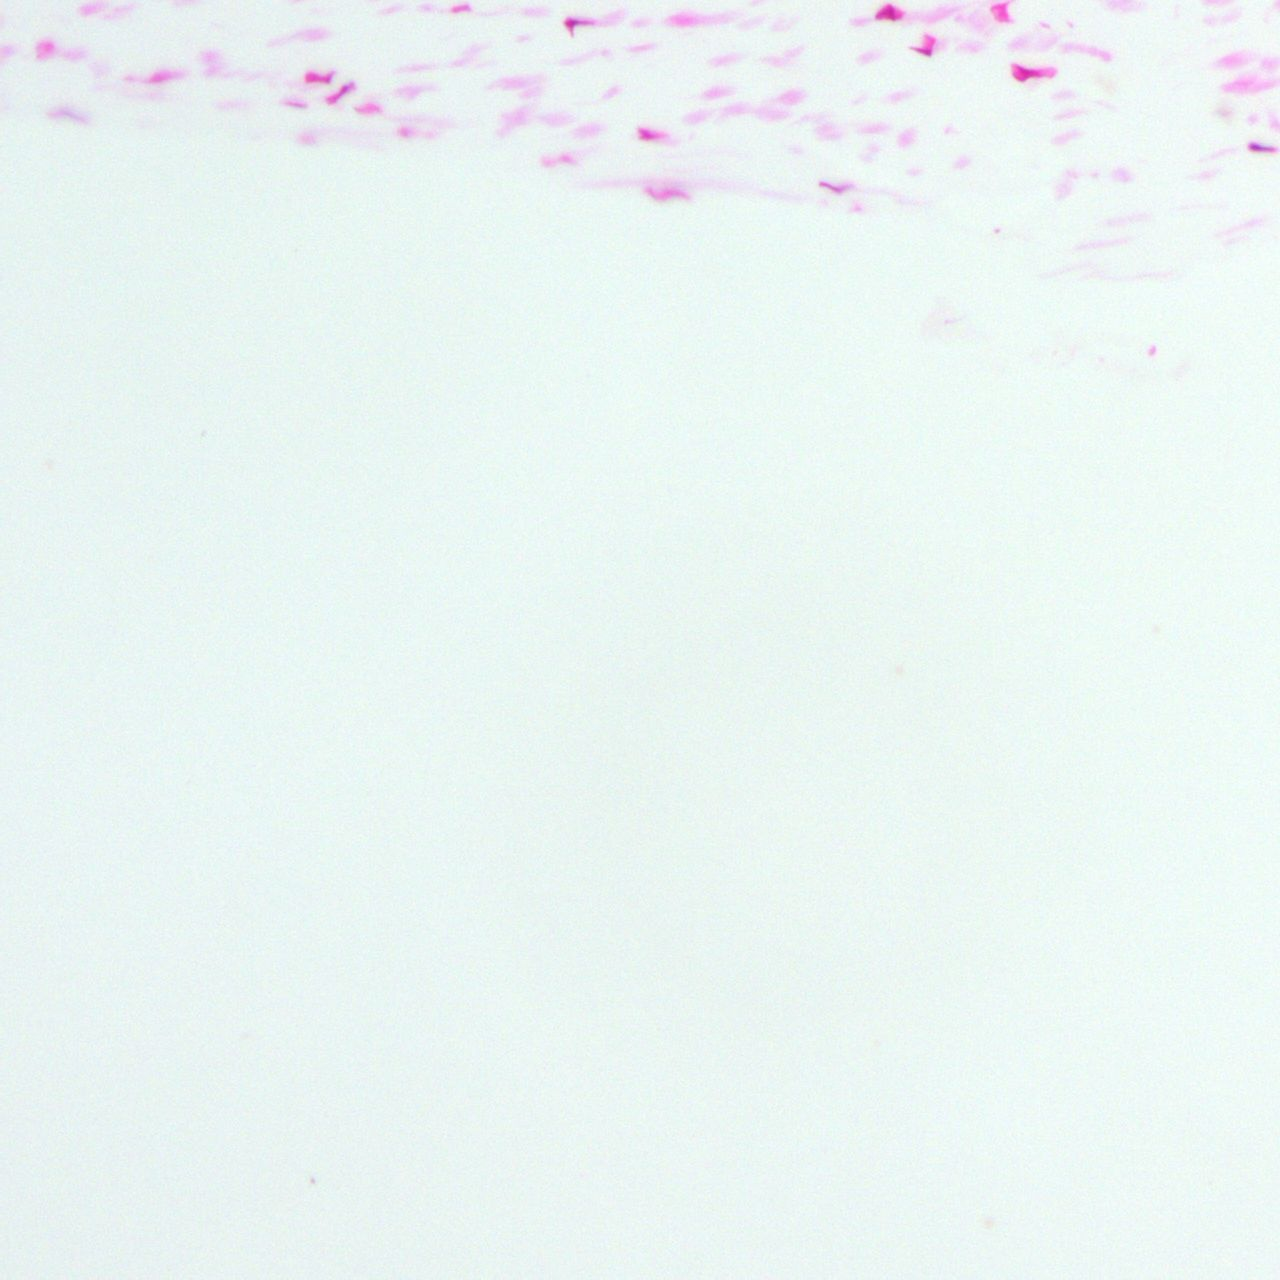nucleus-FG: (644, 188, 690, 202), (325, 84, 350, 105), (564, 18, 583, 34), (1250, 143, 1276, 154), (305, 72, 331, 82), (821, 181, 842, 192), (636, 129, 658, 139), (911, 47, 932, 56), (1015, 64, 1035, 74), (1015, 73, 1033, 82), (887, 4, 897, 20), (452, 5, 469, 12)
